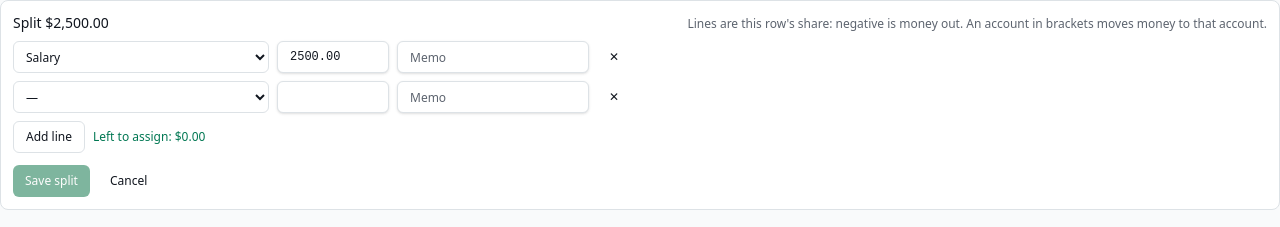
Test: SplitEditor (#590) › shows what is left to assign and saves only when it is zero
expect the button "Save split" is disabled: met, box [13, 165, 90, 197]
Replace the text in the field named "Line 1 amount" with "3400" at (333, 57), box [277, 41, 389, 73]
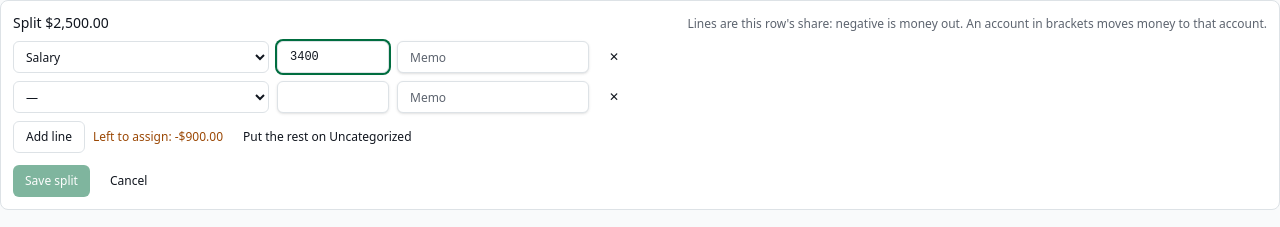
Select "Taxes" in the dropdown named "Line 2 category or account" at (141, 97), box [13, 81, 269, 113]
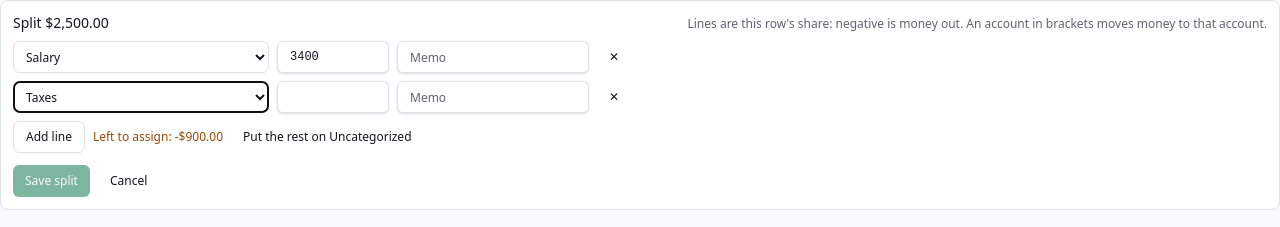
Type "-900" into the field named "Line 2 amount" at (333, 97), box [277, 81, 389, 113]
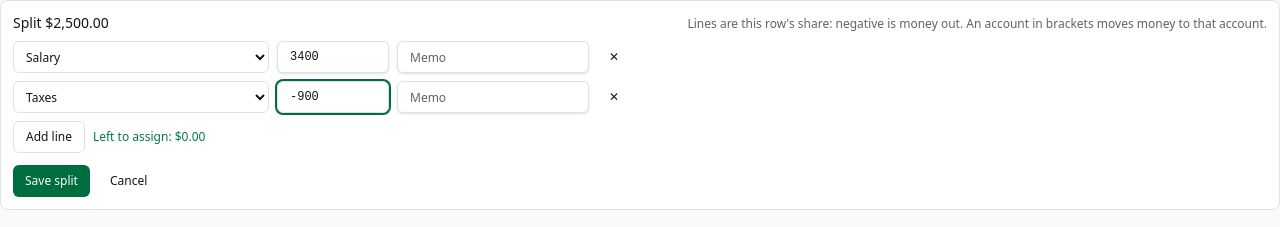
expect the text "Left to assign: $0.00" is shown: met, box [93, 129, 205, 145]
expect the button "Save split" is enabled: met, box [13, 165, 90, 197]
Replace the text in the field named "Line 2 amount" with "-800" at (333, 97), box [277, 81, 389, 113]
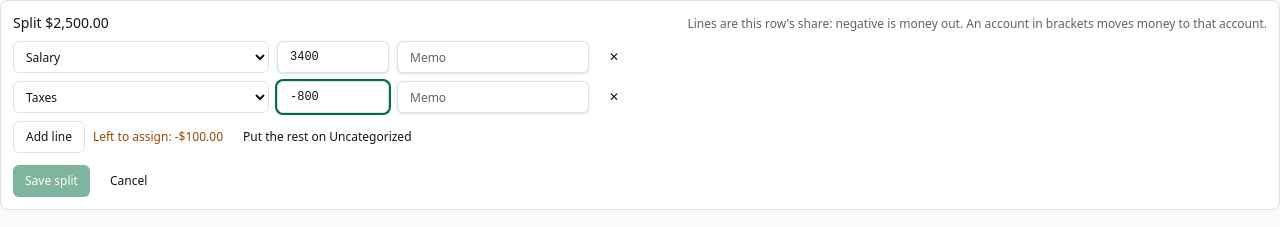
expect the button "Save split" is disabled: met, box [13, 165, 90, 197]
expect the text "Left to assign: -$100.00" is shown: met, box [93, 129, 223, 145]
